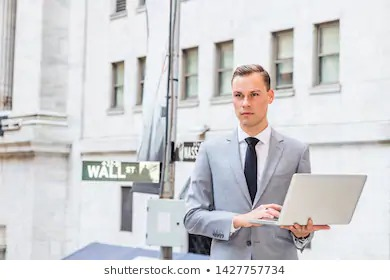F_M_suit jacket: (182, 121, 318, 260)
